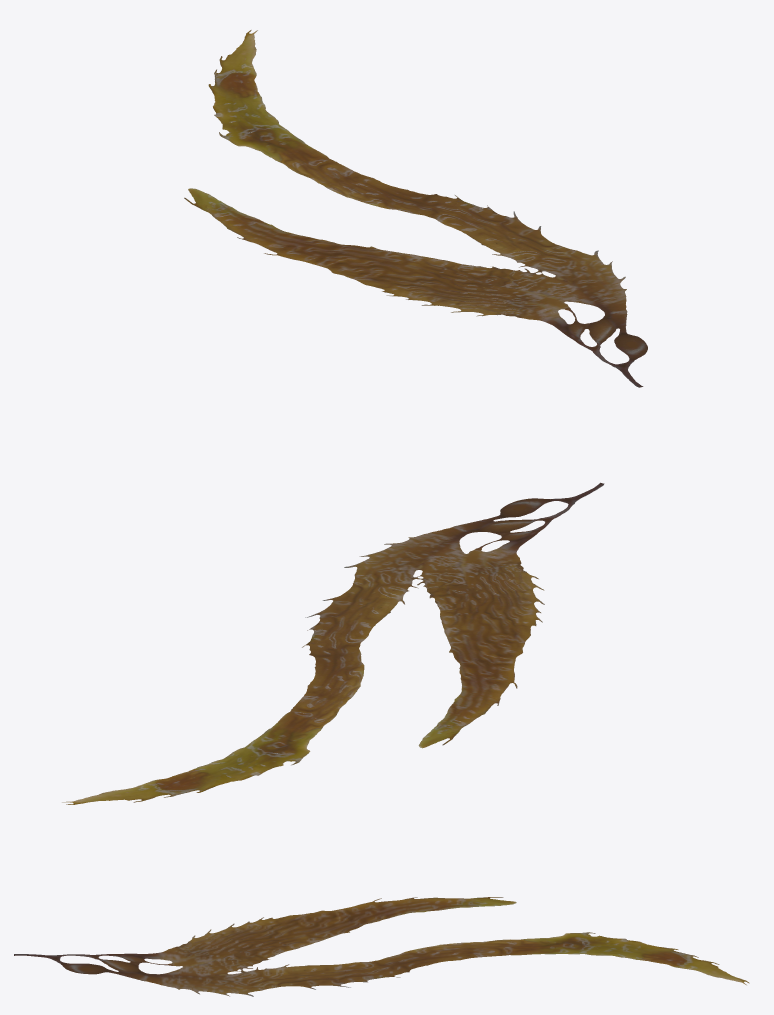
The model's file is Grass_1.fbx.
3 views of the same model, one above another, from view 1: azimuth 30°, elevation 25°; view 2: azimuth 150°, elevation 25°; view 3: azimuth 270°, elevation 25° (orthographic). The views are drawn at different scales.
Parts seen in each view (by area): view 1: Grass_1; view 2: Grass_1; view 3: Grass_1.
Boxes of the visible parts, <box> form: Grass_1: <box>184,30,647,387</box>; Grass_1: <box>62,482,604,804</box>; Grass_1: <box>14,897,749,996</box>.
Size of the model in its own units: 0.3392 by 1.93e-07 by 1.
